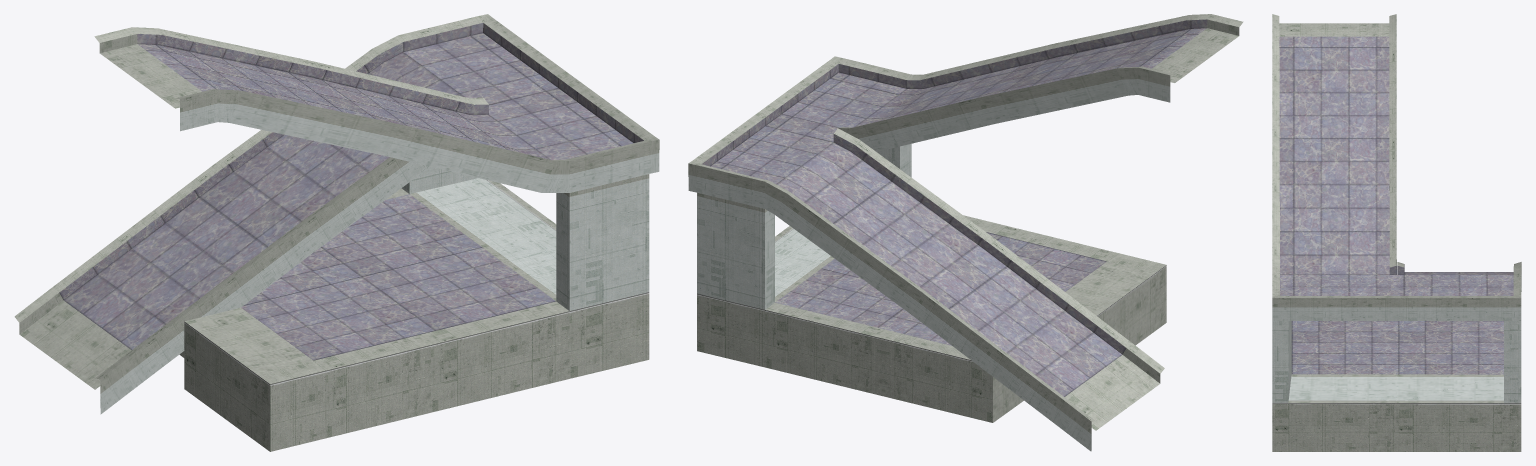
Rendered from bes2_bldg_skyway_ramp.glb.
3 renders of one model, left to right at view 1: azimuth 30°, elevation 25°; view 2: azimuth 150°, elevation 25°; view 3: azimuth 270°, elevation 25°, orthographic. The views are drawn at different scales.
Parts seen in each view (by area): view 1: mesh_part2, mesh_part1; view 2: mesh_part2, mesh_part1; view 3: mesh_part1, mesh_part2.
Part boxes in pixels (x1,y1,x2,y2): mesh_part2: [14, 14, 659, 451]; mesh_part1: [59, 23, 643, 360]; mesh_part2: [688, 14, 1243, 451]; mesh_part1: [701, 19, 1207, 396]; mesh_part1: [1279, 36, 1513, 374]; mesh_part2: [1272, 14, 1521, 451].
Size of the model in its own units: 25.8 by 19.55 by 16.02.
2 materials, 2 textured.
